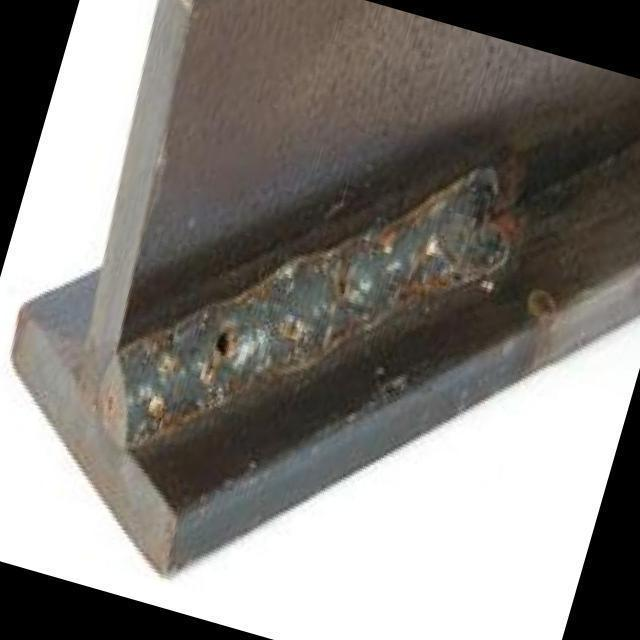defect: (209, 325, 235, 360)
